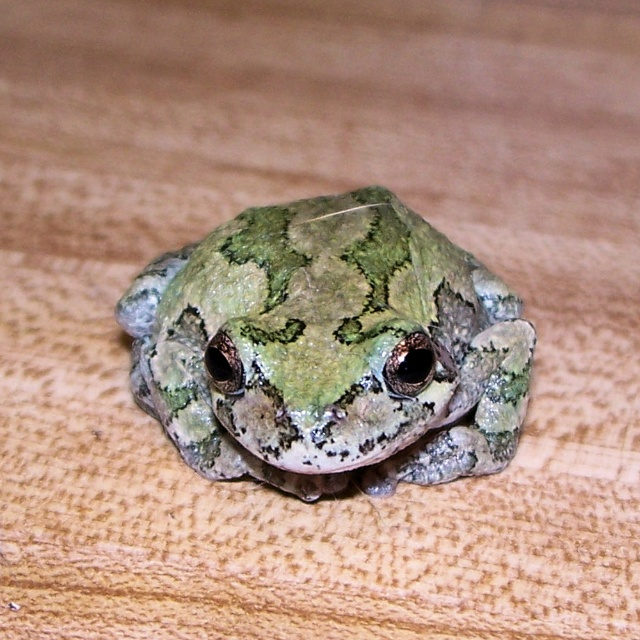Frog: (111, 185, 539, 504)
